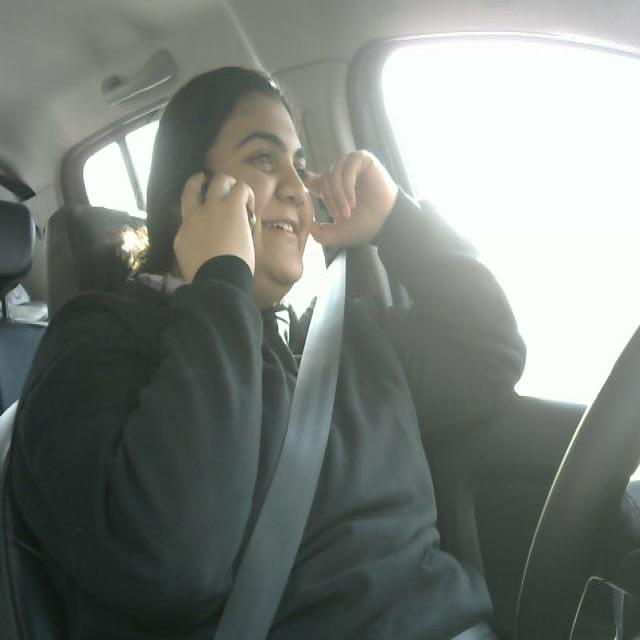mobile use: (170, 160, 258, 268)
